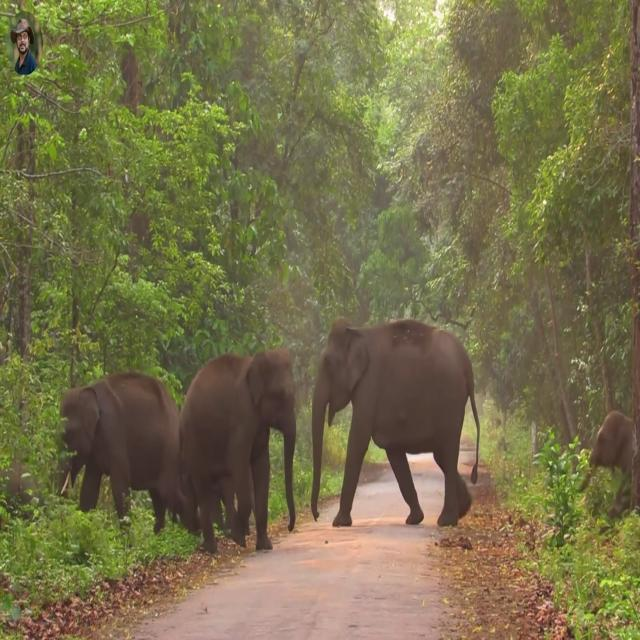Elephant: (310, 316, 480, 528), (178, 347, 297, 553), (55, 370, 189, 536), (584, 409, 635, 518)
